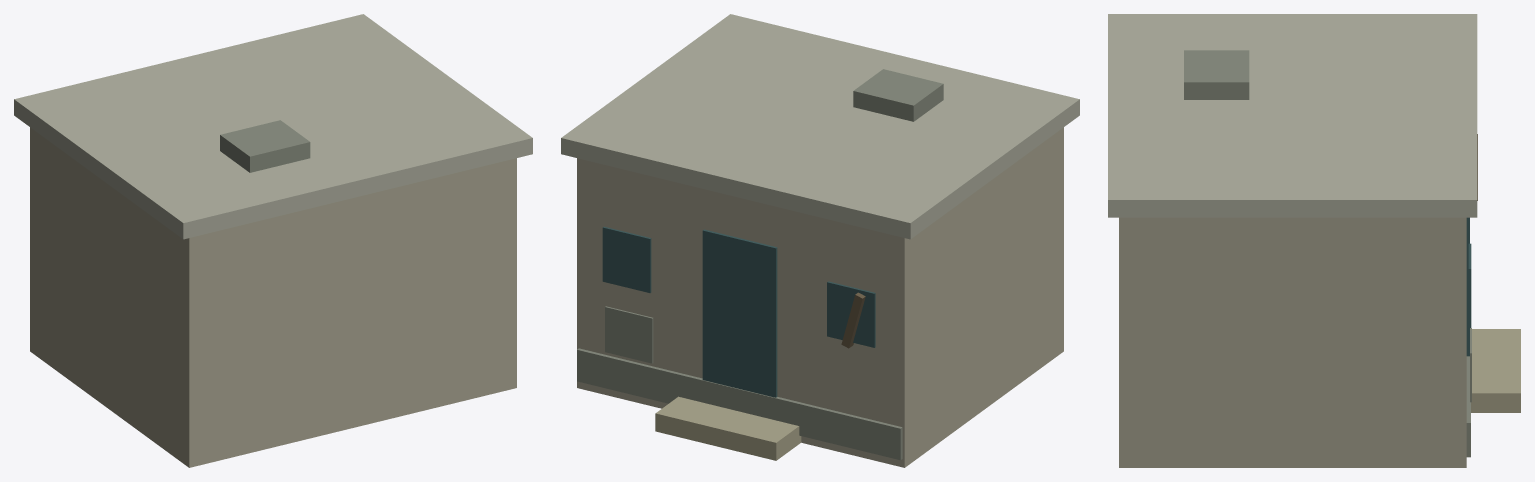
The model's file is ua_hydro_service_building.obj.
3 views of the same model, side by side, from view 1: azimuth 30°, elevation 25°; view 2: azimuth 150°, elevation 25°; view 3: azimuth 270°, elevation 25° (orthographic). The views are drawn at different scales.
Parts seen in each view (by area): view 1: ua_hydro_service_building; view 2: ua_hydro_service_building; view 3: ua_hydro_service_building.
Boxes of the visible parts, <box> form: ua_hydro_service_building: <box>14,14,532,467</box>; ua_hydro_service_building: <box>561,14,1079,467</box>; ua_hydro_service_building: <box>1108,14,1520,467</box>.
Size of the model in its own units: 4.05 by 2.96 by 3.8.
